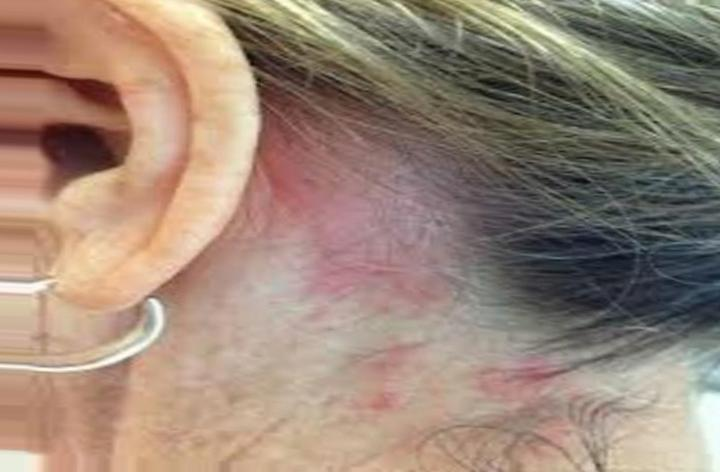Contact Dermatitis: (280, 121, 542, 419)
